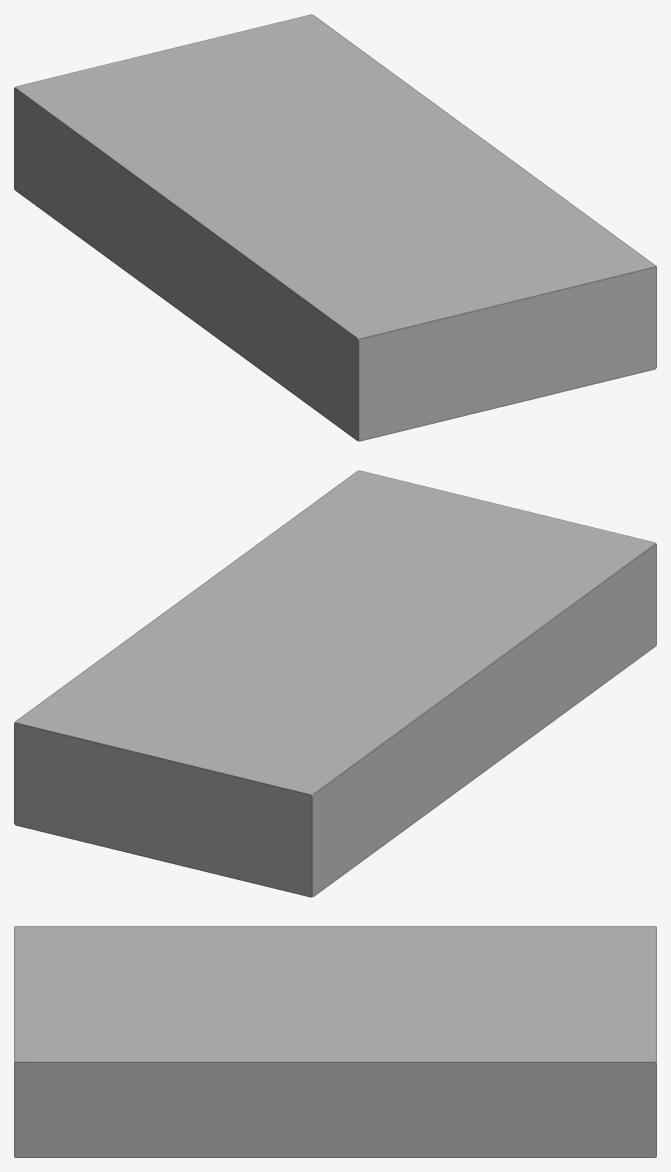
The model's file is pz_wall_outlet_double.obj.
The picture shows the model from 3 angles, top to bottom: view 1: azimuth 30°, elevation 25°; view 2: azimuth 150°, elevation 25°; view 3: azimuth 270°, elevation 25°; orthographic projection. The views are drawn at different scales.
Parts seen in each view (by area): view 1: pz_wall_outlet_double; view 2: pz_wall_outlet_double; view 3: pz_wall_outlet_double.
Boxes of the visible parts, x1,y1,x2,y2 form: pz_wall_outlet_double: (14,14,656,441); pz_wall_outlet_double: (14,470,656,897); pz_wall_outlet_double: (14,926,656,1157).
Bounding box in the file's own units: 0.085 × 0.029 × 0.17.
1 material, 1 textured.
